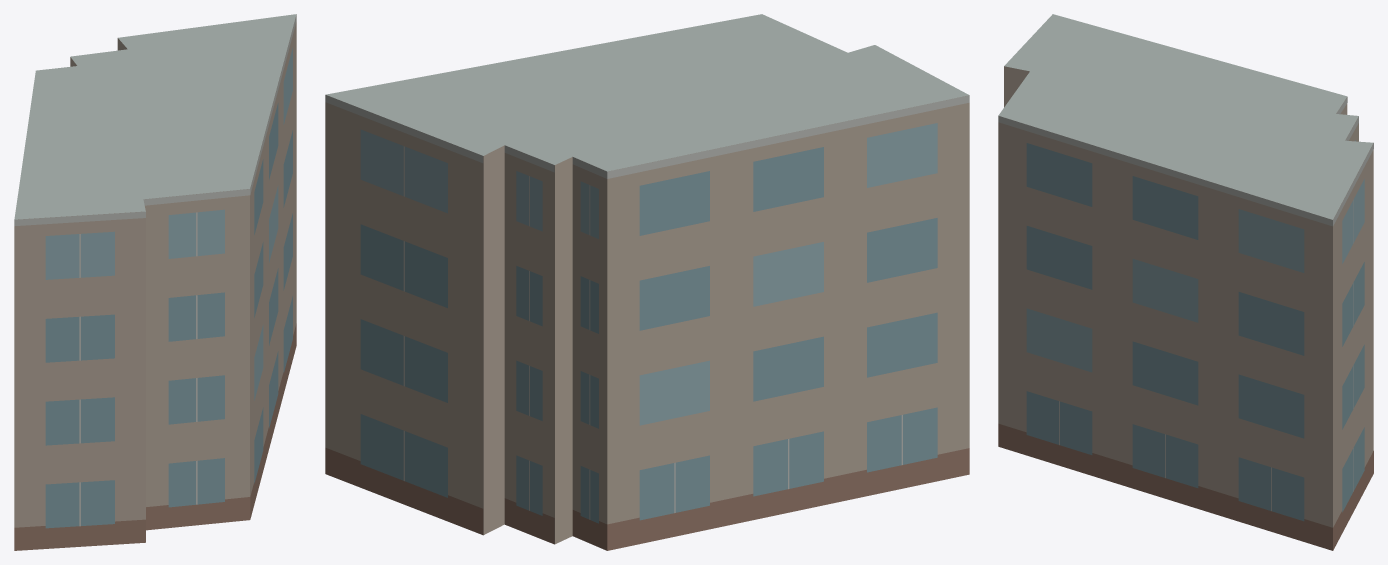
The model's file is survey-upis-32806120.glb.
3 renders of one model, left to right at view 1: azimuth 30°, elevation 25°; view 2: azimuth 150°, elevation 25°; view 3: azimuth 270°, elevation 25°, orthographic. The views are drawn at different scales.
Parts seen in each view (by area): view 1: survey-upis-32806120.tmp; view 2: survey-upis-32806120.tmp; view 3: survey-upis-32806120.tmp.
Boxes of the visible parts, box(x1,y1,x2,y2) form: survey-upis-32806120.tmp: box(14, 14, 296, 550); survey-upis-32806120.tmp: box(325, 14, 969, 550); survey-upis-32806120.tmp: box(998, 14, 1373, 550).
Size of the model in its own units: 16.56 by 12.4 by 12.76.
